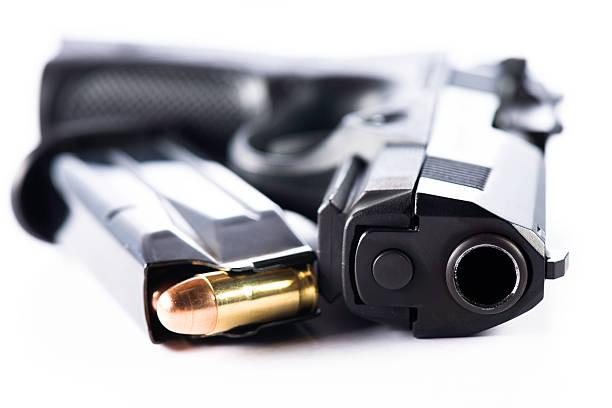weapon: (36, 32, 574, 341)
